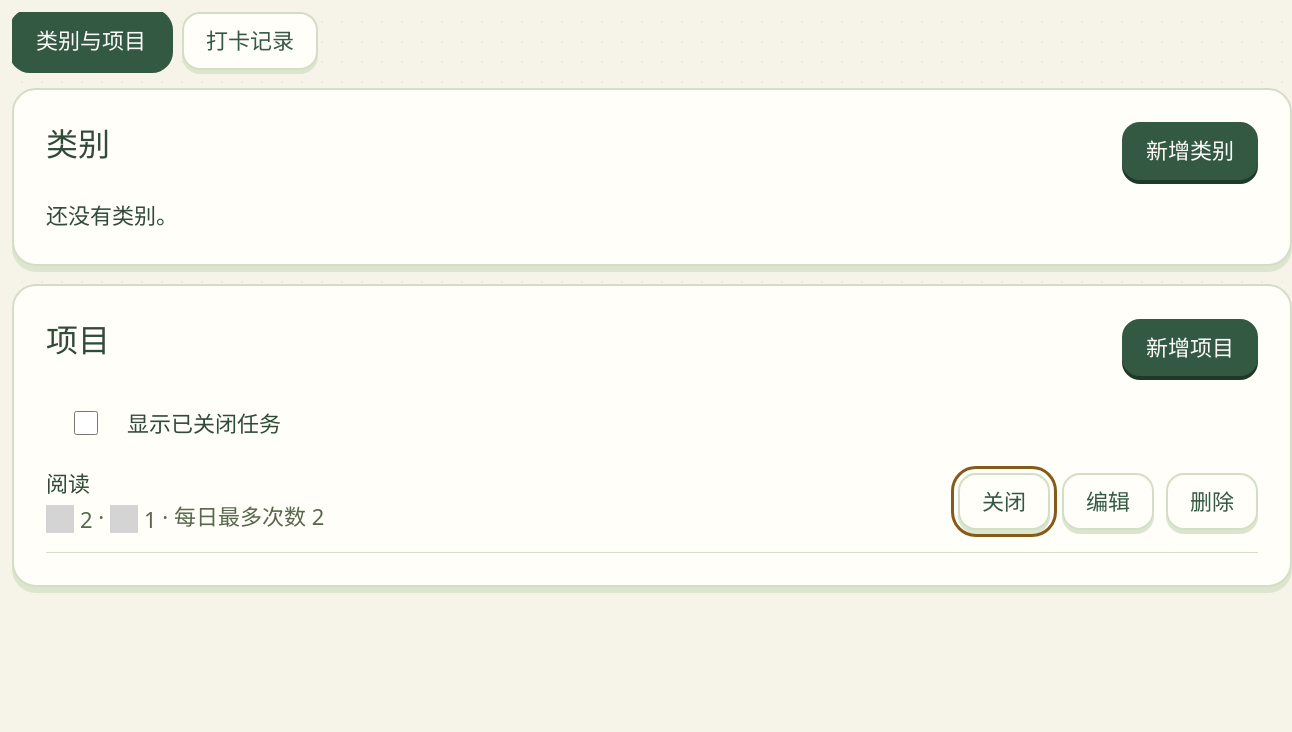
Test: 任务开启和关闭 › 关闭只提交配置字段，成功后隐藏并将焦点移到找回入口
Step 1. Click the button "关闭" → [1004, 501], box [958,472,1050,530]
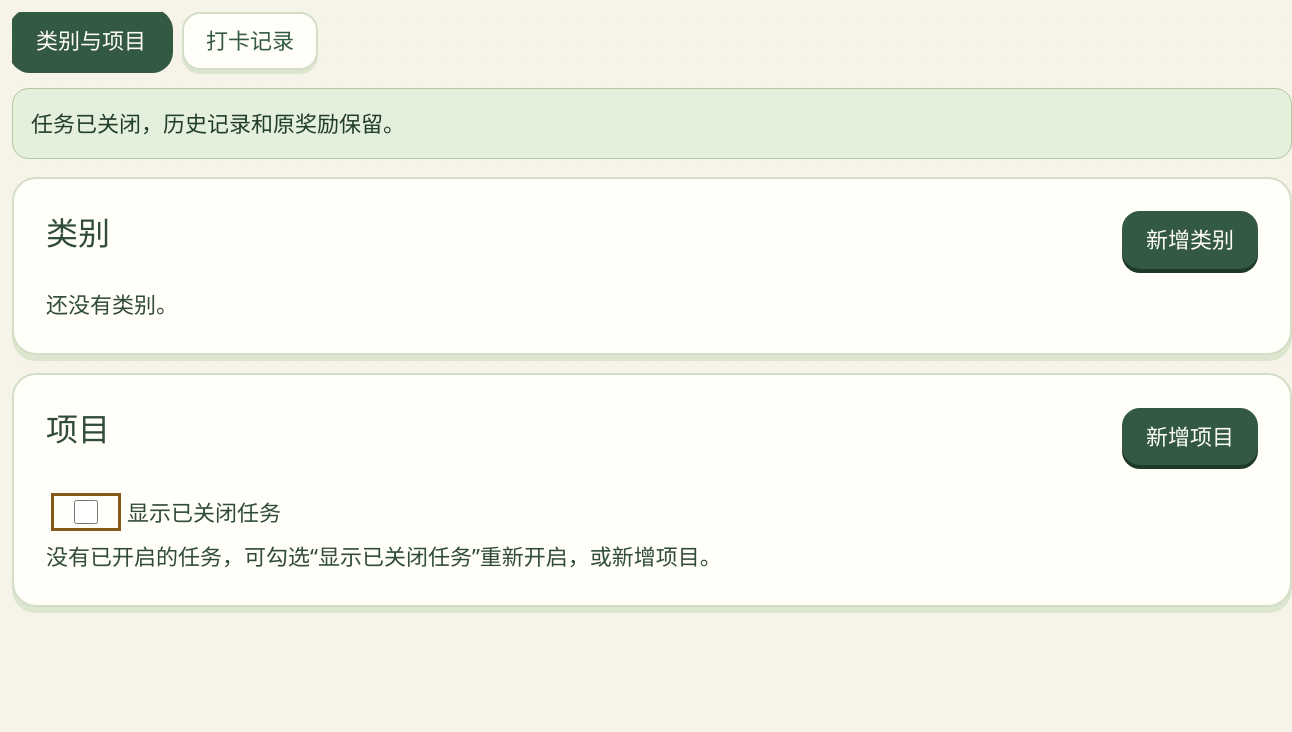
Result: the text "任务已关闭，历史记录和原奖励保留。" is shown at [12,88,1291,159]
Result: the text "阅读" is gone
